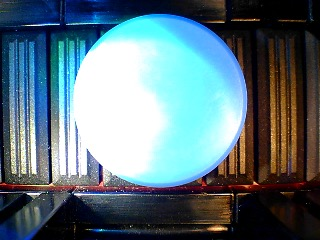BLANK: (72, 13, 248, 187)
